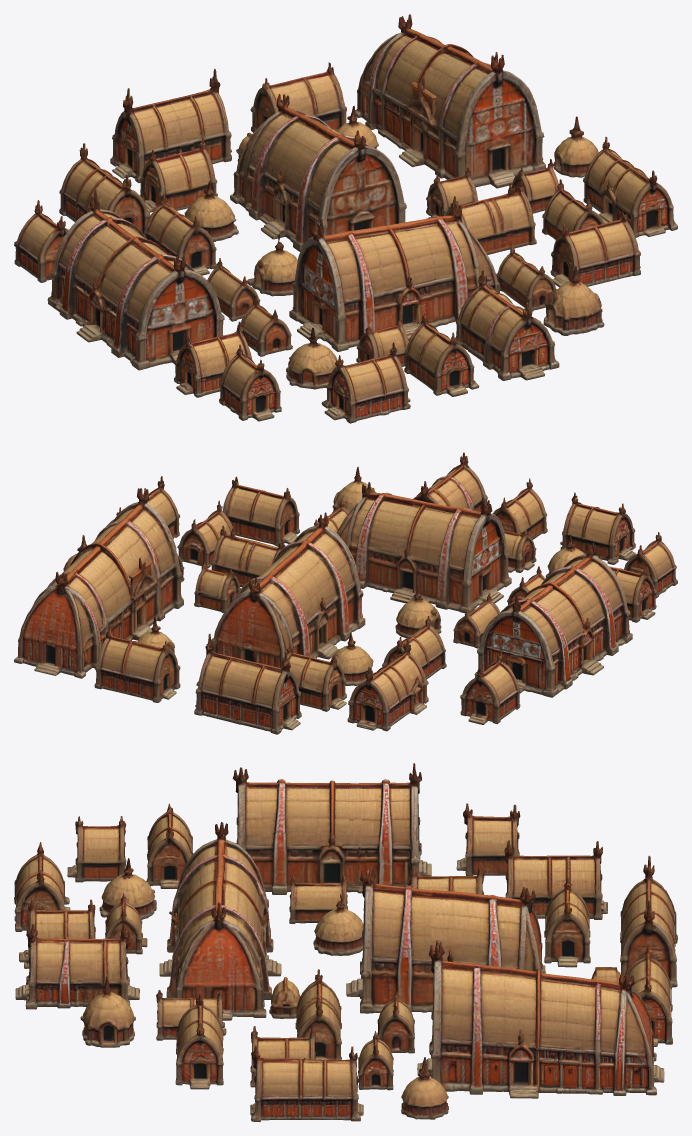
Rendered from Medieval Town (North American Native).fbx.
The picture shows the model from 3 angles, top to bottom: view 1: azimuth 30°, elevation 25°; view 2: azimuth 150°, elevation 25°; view 3: azimuth 270°, elevation 25°; orthographic projection. The views are drawn at different scales.
Parts seen in each view (by area): view 1: tripo_node_3b2e3d19; view 2: tripo_node_3b2e3d19; view 3: tripo_node_3b2e3d19.
Part boxes in pixels (x1,y1,x2,y2): tripo_node_3b2e3d19: [14, 14, 677, 423]; tripo_node_3b2e3d19: [14, 452, 677, 734]; tripo_node_3b2e3d19: [14, 763, 677, 1121].
Bounding box in the file's own units: 0.9993 × 0.2299 × 1.
